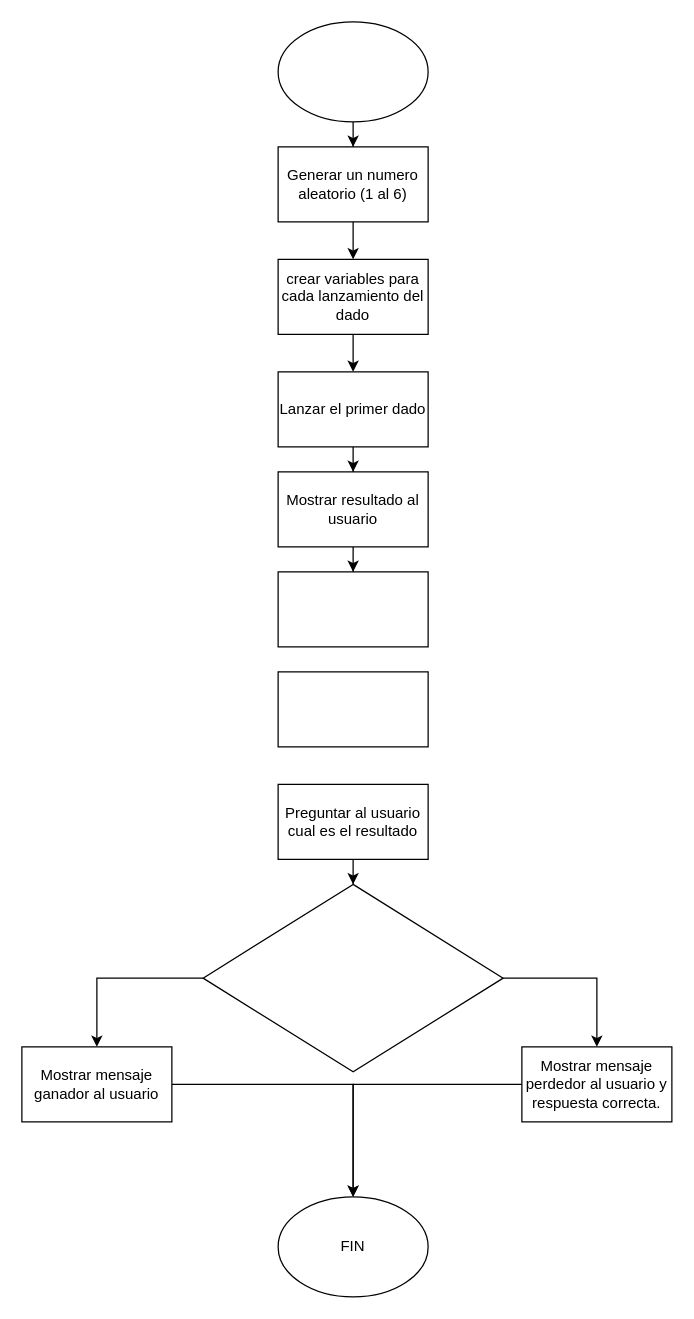
The diagram is 694 pixels wide and 1319 high, and some of its shapes have lost their labels. Here are the shapes that lost their labels. From the top down, the centre of each, then its label:
At point (352, 71): "Inicio".
At point (352, 609): "Lanzar el segundo dado, sin mostrar el resultado".
At point (352, 709): "Calcular el resultado comparando ambos numeros si 1es<>=2".
At point (352, 977): "Comprobando respuesta del usuario, correcto o incorrecto?".
